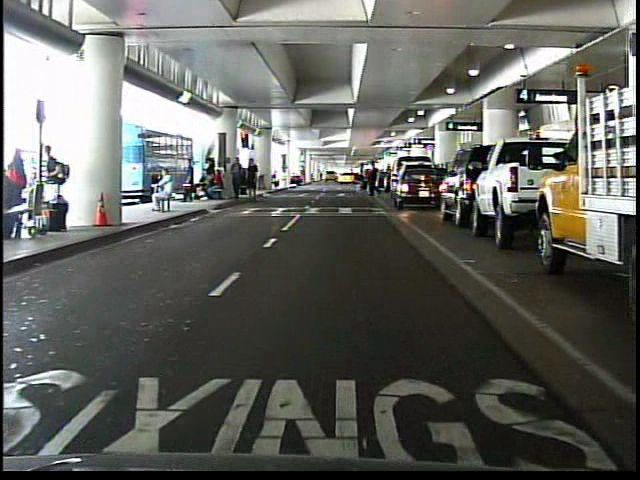person: (146, 168, 177, 216), (181, 155, 198, 206), (366, 158, 385, 202), (350, 160, 369, 197)
